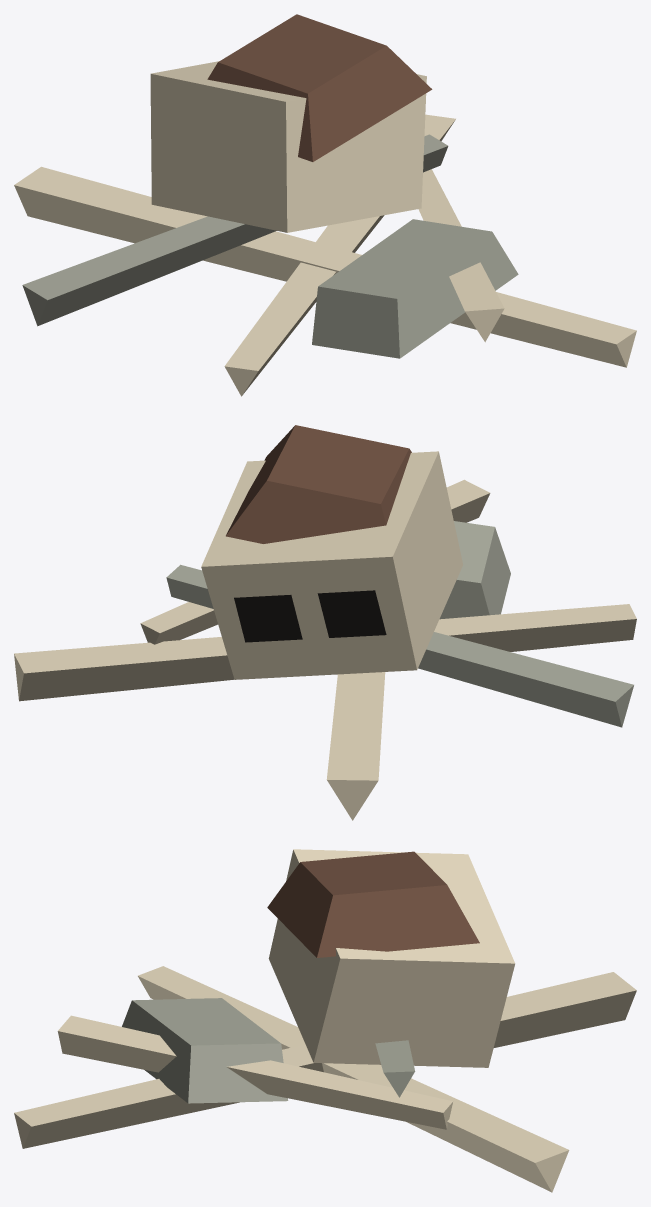
The model's file is PR_BonePile.fbx.
3 views of the same model, one above another, from view 1: azimuth 30°, elevation 25°; view 2: azimuth 150°, elevation 25°; view 3: azimuth 270°, elevation 25° (orthographic). The views are drawn at different scales.
Parts seen in each view (by area): view 1: PR_BonePile; view 2: PR_BonePile; view 3: PR_BonePile.
Boxes of the visible parts, x1,y1,x2,y2 form: PR_BonePile: (14,14,636,396); PR_BonePile: (14,425,636,820); PR_BonePile: (14,849,636,1192).
Bounding box in the file's own units: 0.8413 × 0.9128 × 0.3601.
